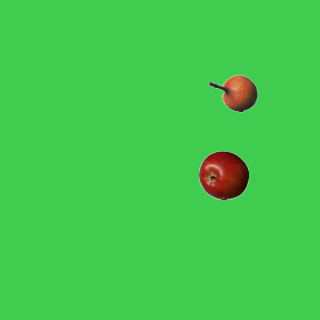Apple Braeburn: (198, 150, 248, 200)
Granadilla: (207, 68, 257, 118)
